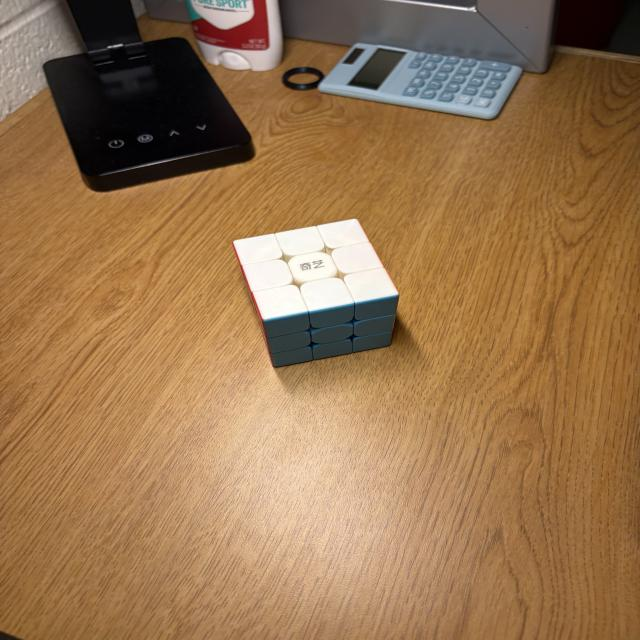Rubiks Cube: (230, 219, 400, 367)
